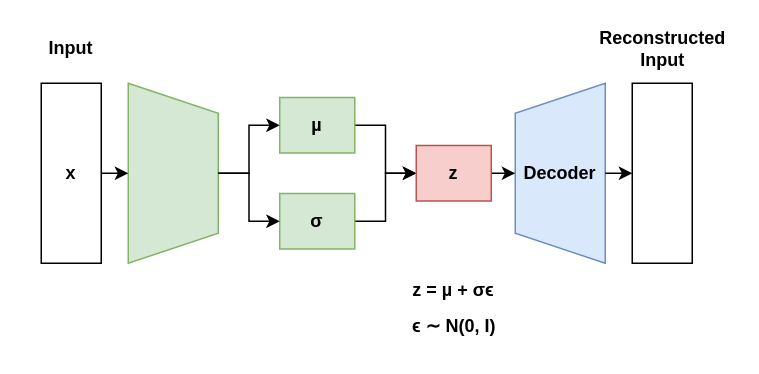
The diagram is 759 pixels wide and 374 high, and some of its shapes have lost their labels. The shapes that lost their labels are listed below. From the top down, each one's box as (x1, y1, x2, y2) in pixels, then its label:
(127, 82, 218, 263): Encoder
(631, 82, 692, 263): x'
